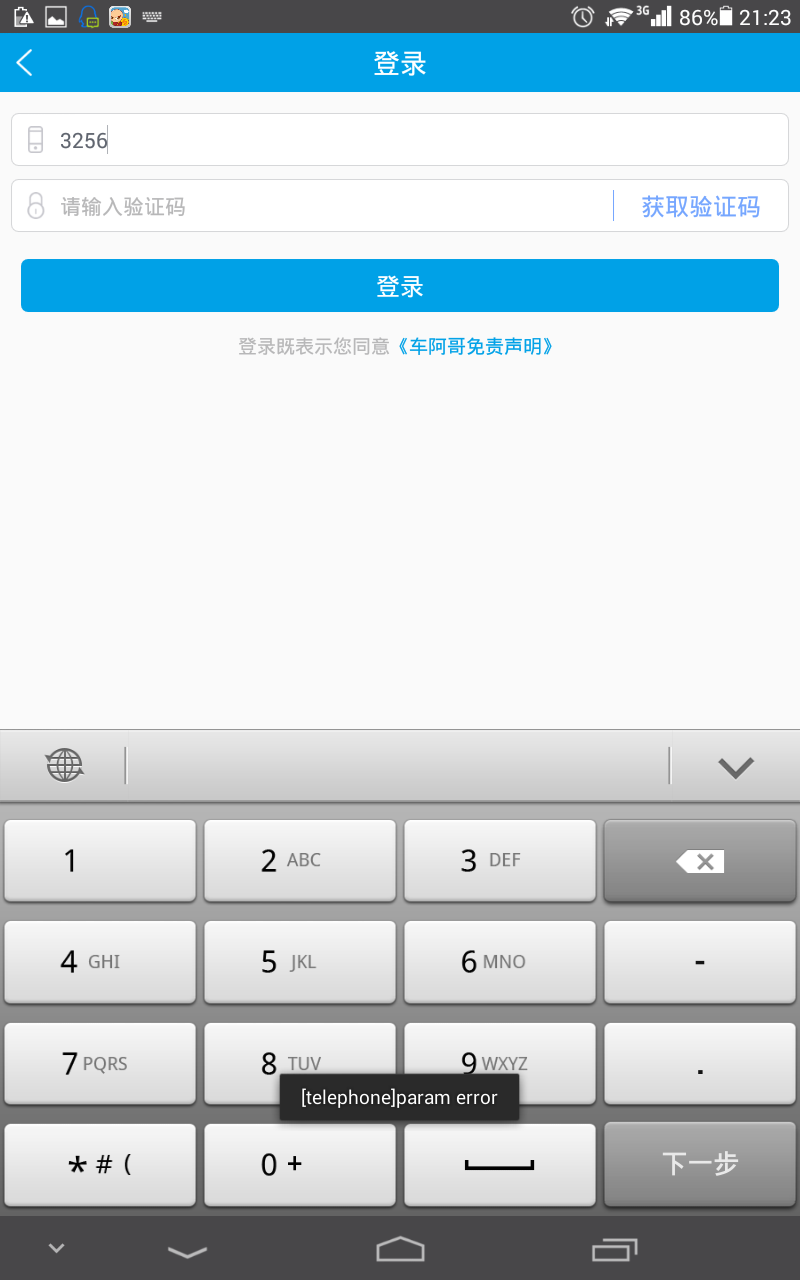alert: (277, 1068, 523, 1123)
